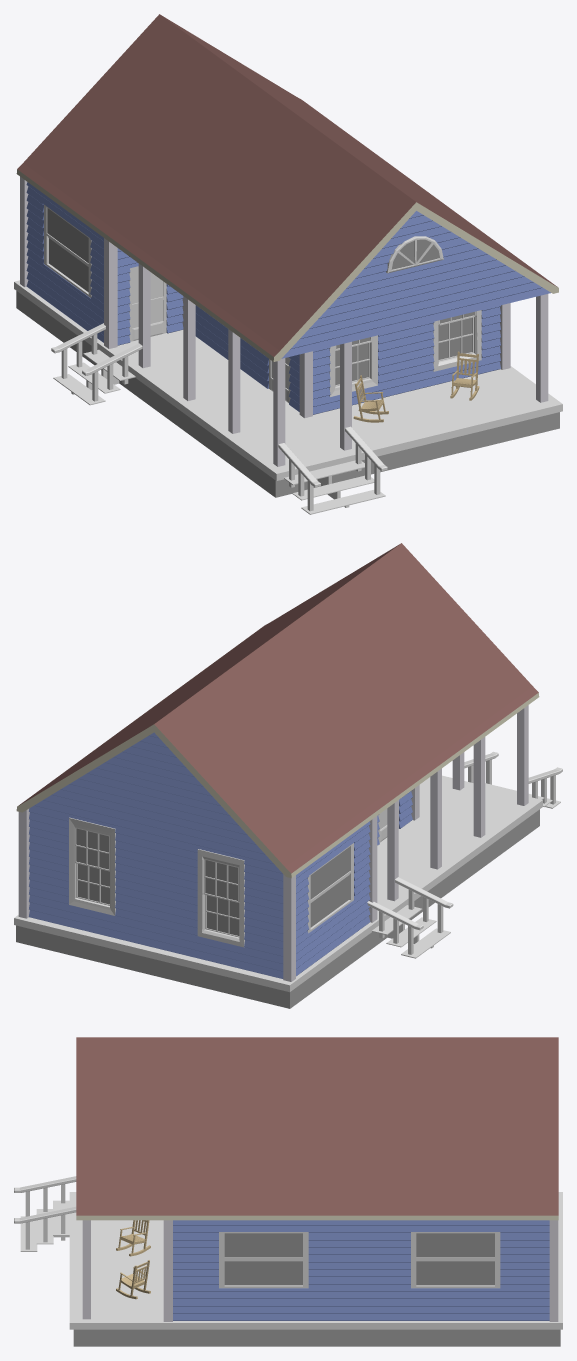
Rendered from kai_new_cut.fbx.
3 views of the same model, one above another, from view 1: azimuth 30°, elevation 25°; view 2: azimuth 150°, elevation 25°; view 3: azimuth 270°, elevation 25° (orthographic). The views are drawn at different scales.
Parts seen in each view (by area): view 1: roof, wood_slats, patio, pillars, lattice_thing, glass, roof_trim, window_exterior, screen_door_with_inner_door, rocking_chairs; view 2: roof, wood_slats, patio, pillars, lattice_thing, glass, window_exterior, roof_trim; view 3: roof, wood_slats, patio, lattice_thing, glass, window_exterior, pillars, roof_trim, rocking_chairs.
Boxes of the visible parts, <box> form: roof: <box>17,14,557,356</box>; wood_slats: <box>26,182,550,414</box>; patio: <box>14,280,562,514</box>; pillars: <box>20,176,548,466</box>; lattice_thing: <box>16,291,559,497</box>; glass: <box>47,208,473,385</box>; roof_trim: <box>16,169,558,361</box>; window_exterior: <box>44,204,481,396</box>; screen_door_with_inner_door: <box>129,266,290,402</box>; rocking_chairs: <box>353,351,479,422</box>; roof: <box>18,543,538,873</box>; wood_slats: <box>29,732,412,978</box>; patio: <box>14,751,562,992</box>; pillars: <box>18,705,528,981</box>; lattice_thing: <box>16,809,539,1008</box>; glass: <box>76,828,350,935</box>; window_exterior: <box>69,817,353,947</box>; roof_trim: <box>16,692,539,878</box>; roof: <box>76,1037,558,1215</box>; wood_slats: <box>173,1220,549,1320</box>; patio: <box>14,1176,562,1329</box>; lattice_thing: <box>73,1329,560,1346</box>; glass: <box>224,1233,494,1285</box>; window_exterior: <box>219,1232,500,1288</box>; pillars: <box>82,1220,558,1321</box>; roof_trim: <box>76,1215,558,1220</box>; rocking_chairs: <box>116,1220,150,1299</box>.
Size of the model in its own units: 12.2 by 9.04 by 18.42.
